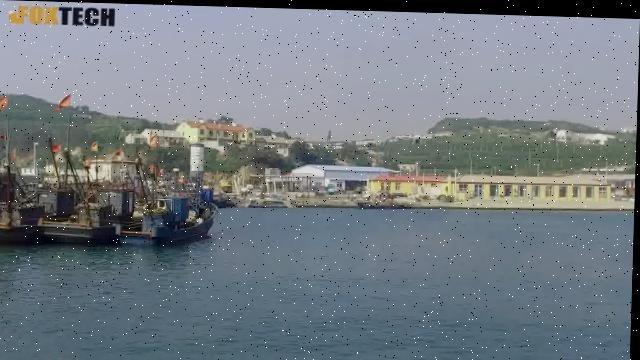drone: (392, 124, 446, 152)
